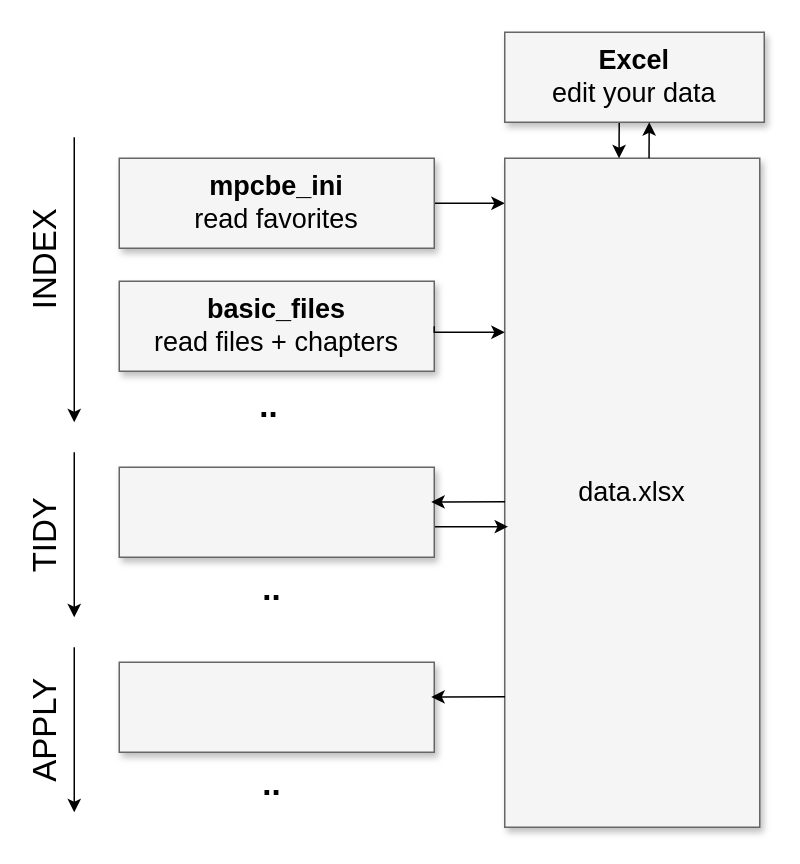
Image size: 800x864. Some labels were removed from this diagram. The centre of each missing label's shape, as x and y in pixels:
"basic_files merge chapters" goes at [277,514].
"basic_files write chapters to file" goes at [277,709].
